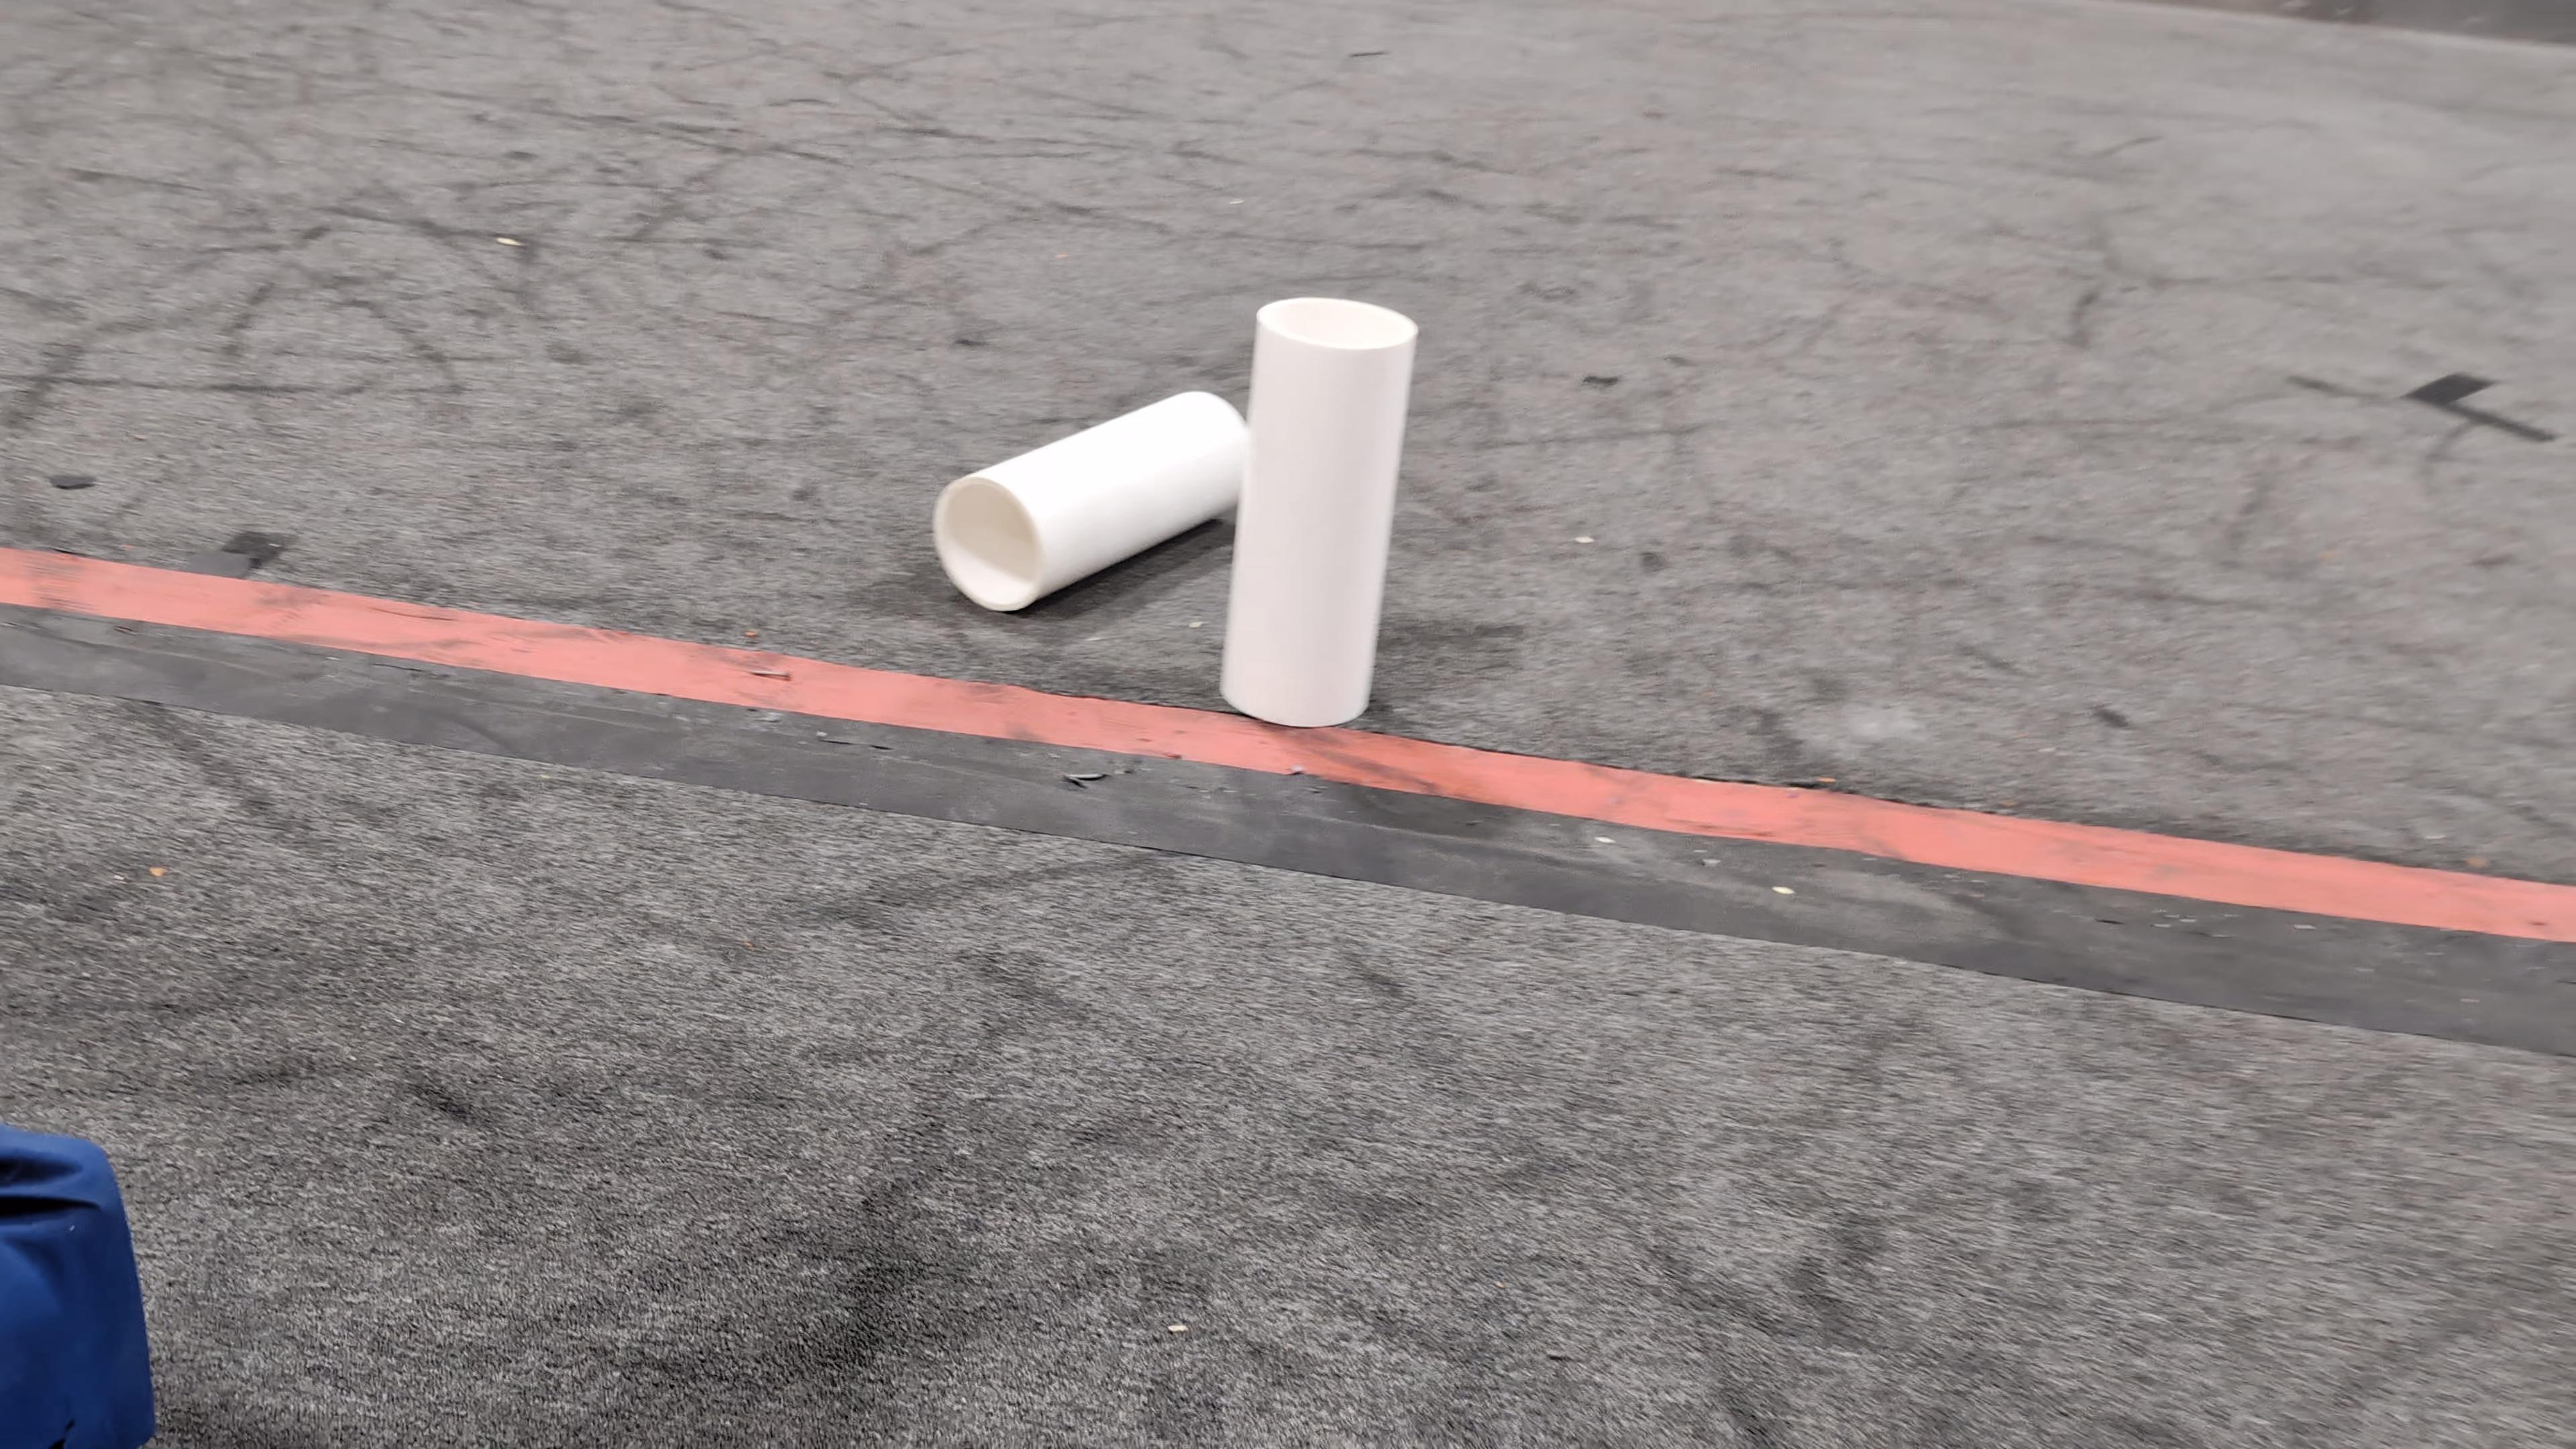coral: (1217, 290, 1430, 732), (932, 384, 1253, 613)
